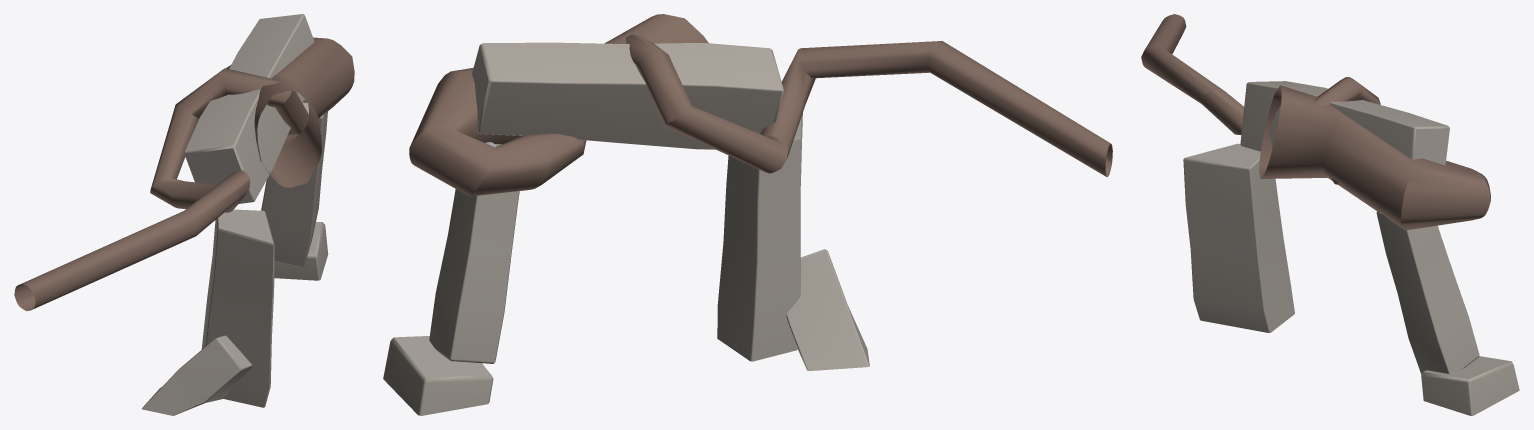
Rendered from MSH_Door_03.fbx.
3 renders of one model, left to right at view 1: azimuth 30°, elevation 25°; view 2: azimuth 150°, elevation 25°; view 3: azimuth 270°, elevation 25°, orthographic. The views are drawn at different scales.
Parts seen in each view (by area): view 1: MSH_Door_03; view 2: MSH_Door_03; view 3: MSH_Door_03.
Part boxes in pixels (box(x1,y1,x2,y2)): MSH_Door_03: box(14, 14, 354, 415); MSH_Door_03: box(383, 14, 1112, 415); MSH_Door_03: box(1141, 14, 1519, 415).
Bounding box in the file's own units: 839 × 479 × 621.
